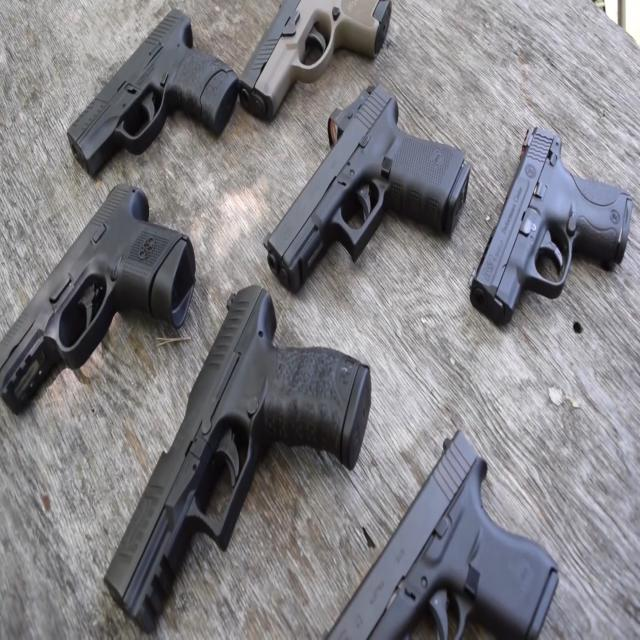handgun: (112, 247, 358, 632), (339, 393, 572, 639), (0, 179, 182, 463), (280, 93, 473, 312), (456, 116, 634, 344), (65, 0, 239, 207), (236, 0, 387, 149)
